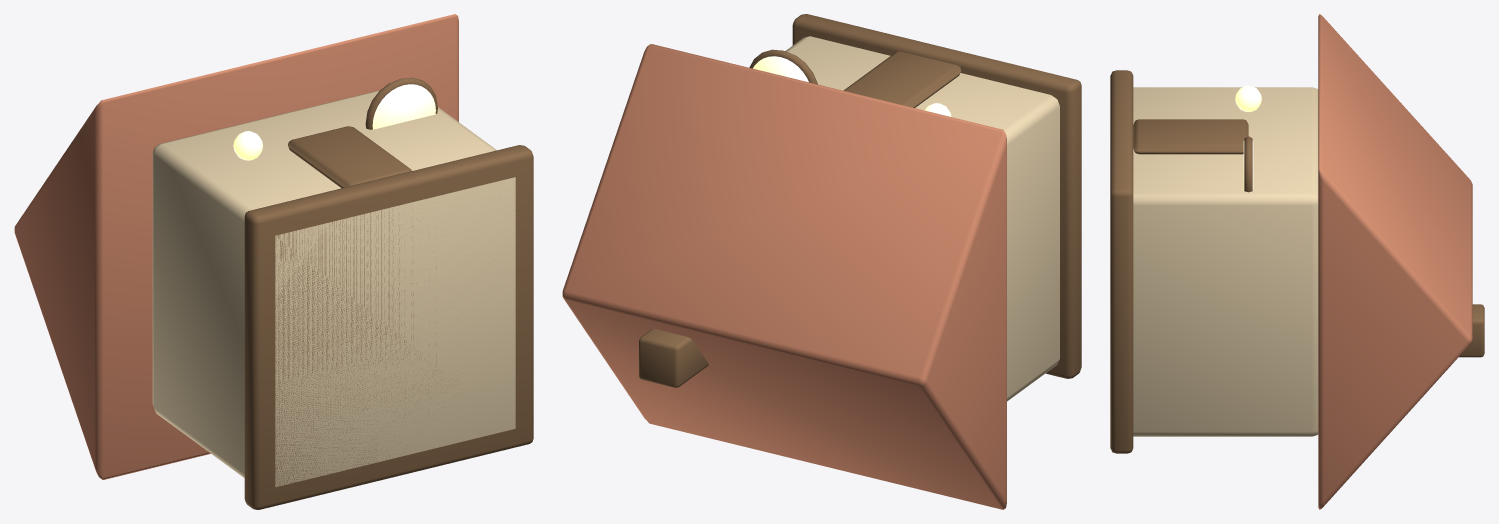
The model's file is loft-cottage.glb.
3 renders of one model, left to right at view 1: azimuth 30°, elevation 25°; view 2: azimuth 150°, elevation 25°; view 3: azimuth 270°, elevation 25°, orthographic. The views are drawn at different scales.
Parts seen in each view (by area): view 1: loft; view 2: loft; view 3: loft.
Part boxes in pixels (bbox=[...]): loft: bbox=[14, 14, 533, 509]; loft: bbox=[562, 14, 1081, 509]; loft: bbox=[1110, 14, 1484, 509].
Bounding box in the file's own units: 1.97 × 1.96 × 1.95.
